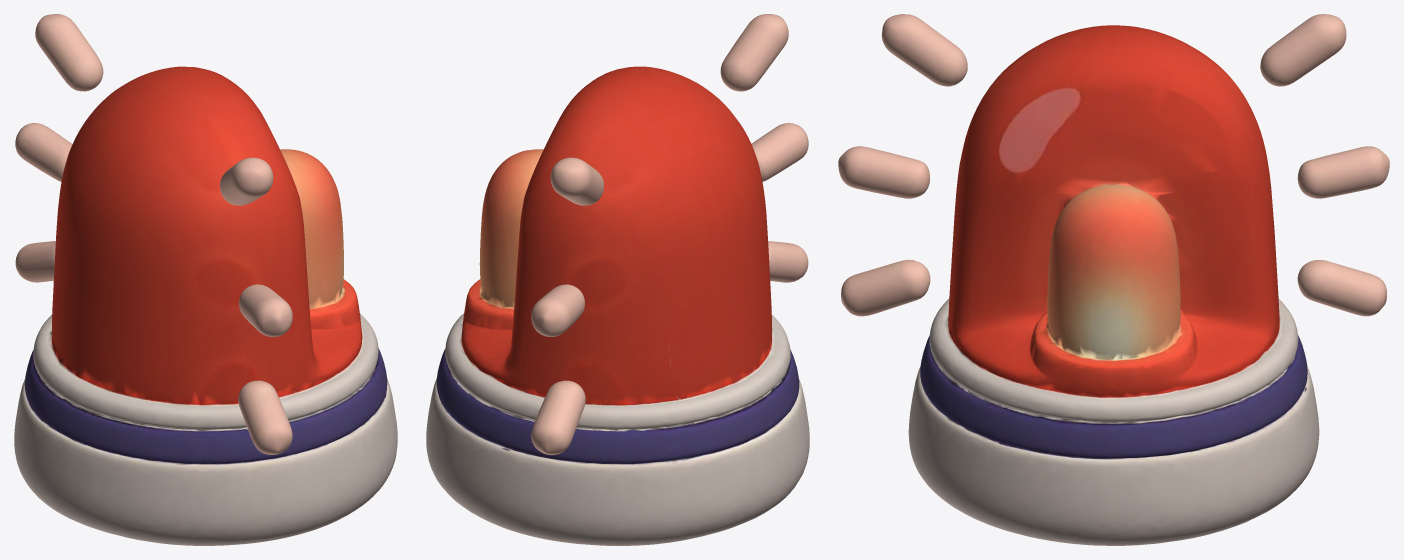
File: urgenza-subito.glb
The picture shows the model from 3 angles, left to right: view 1: azimuth 30°, elevation 25°; view 2: azimuth 150°, elevation 25°; view 3: azimuth 270°, elevation 25°; orthographic projection. The views are drawn at different scales.
Parts seen in each view (by area): view 1: tripo_node_6b079093-f2a5-4c3f-9a10-752d7eae7369; view 2: tripo_node_6b079093-f2a5-4c3f-9a10-752d7eae7369; view 3: tripo_node_6b079093-f2a5-4c3f-9a10-752d7eae7369.
Boxes of the visible parts, <box> form: tripo_node_6b079093-f2a5-4c3f-9a10-752d7eae7369: <box>14,14,397,545</box>; tripo_node_6b079093-f2a5-4c3f-9a10-752d7eae7369: <box>426,14,809,545</box>; tripo_node_6b079093-f2a5-4c3f-9a10-752d7eae7369: <box>838,14,1389,545</box>.
Bounding box in the file's own units: 0.7295 × 0.8466 × 0.9788.
1 material, 1 textured.
